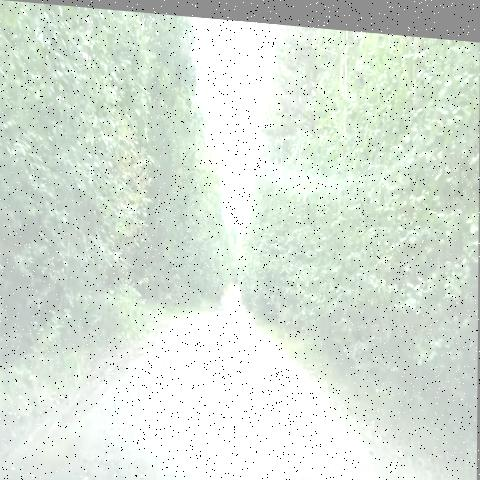pothole: (272, 432, 373, 480), (192, 372, 274, 418), (133, 335, 180, 409), (229, 338, 296, 386)
